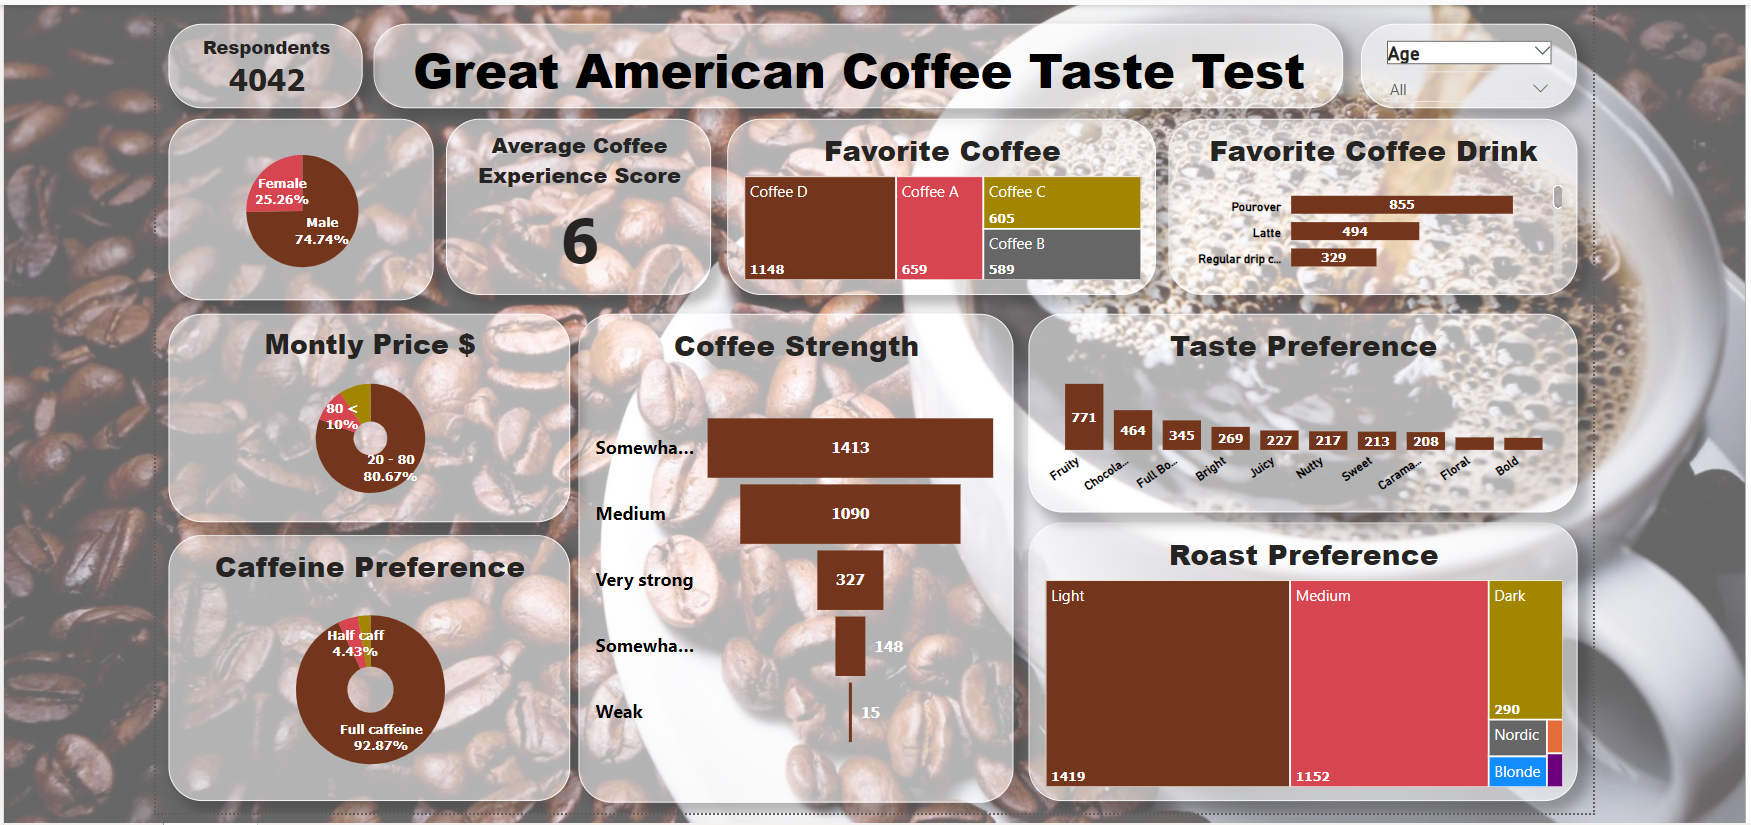

What the dashboard file says about the page in this screenshot:
{"tool":"powerbi","page":{"name":"Page 1","canvas":[1280,720],"ordinal":0},"visuals":[{"type":"textbox","title":"Great American Coffee Taste Test","box":[193.5,16.5,863.1,75.5],"z":0},{"type":"card","title":"Respondents","fields":{"Values":["CountNonNull(GACTT_RESULTS_ANONYMIZED_v2 (2).Submission ID)"]},"box":[11,16.5,172.9,75.5],"z":1},{"type":"pieChart","title":"Respondents","fields":{"Y":["CountNonNull(GACTT_RESULTS_ANONYMIZED_v2 (2).Gender (groups))"],"Category":["GACTT_RESULTS_ANONYMIZED_v2 (2).Gender (groups)"]},"box":[11,101.5,236,161.9],"z":2},{"type":"slicer","fields":{"Values":["GACTT_RESULTS_ANONYMIZED_v2.Age"]},"box":[1073.1,16.5,192.1,75.5],"z":3},{"type":"clusteredBarChart","title":"Favorite Coffee Drink","fields":{"Category":["GACTT_RESULTS_ANONYMIZED_v2.fav coffee drink"],"Y":["CountNonNull(GACTT_RESULTS_ANONYMIZED_v2.fav coffee drink)"]},"box":[901.5,101.5,363.6,156.4],"z":4},{"type":"treemap","title":"Favorite Coffee ","fields":{"Group":["GACTT_RESULTS_ANONYMIZED_v2.fav coffee"],"Values":["CountNonNull(GACTT_RESULTS_ANONYMIZED_v2.fav coffee)"]},"box":[509.1,101.5,381.5,156.4],"z":5},{"type":"card","title":"Average Coffee Experience Score","fields":{"Values":["Avg(GACTT_RESULTS_ANONYMIZED_v2.experience)"]},"box":[258,101.5,236,156.4],"z":6},{"type":"donutChart","title":"Caffeine Preference","fields":{"Y":["CountNonNull(GACTT_RESULTS_ANONYMIZED_v2.caffeine)"],"Category":["GACTT_RESULTS_ANONYMIZED_v2.caffeine"]},"box":[11.1,471.8,357.2,237],"z":7},{"type":"treemap","title":"Roast Preference","fields":{"Group":["GACTT_RESULTS_ANONYMIZED_v2.Roast level"],"Values":["CountNonNull(GACTT_RESULTS_ANONYMIZED_v2.Roast level)"]},"box":[776.7,461.1,488.5,248.4],"z":8},{"type":"funnel","title":"Coffee Strength","fields":{"Category":["GACTT_RESULTS_ANONYMIZED_v2.Strong level"],"Y":["CountNonNull(GACTT_RESULTS_ANONYMIZED_v2.Strong level)"]},"box":[376,274.4,387,435],"z":9},{"type":"columnChart","title":"Taste Preference","fields":{"Category":["GACTT_RESULTS_ANONYMIZED_v2.taste"],"Y":["CountNonNull(GACTT_RESULTS_ANONYMIZED_v2.taste)"]},"box":[776.7,274.4,488.5,177],"z":10},{"type":"donutChart","title":"Montly Price $","fields":{"Category":["GACTT_RESULTS_ANONYMIZED_v2.Montly (groups)"],"Y":["CountNonNull(GACTT_RESULTS_ANONYMIZED_v2.Montly (groups))"]},"box":[11.1,274.9,357.2,185.8],"z":11}]}

Visuals, with their boxes on the page's 1280x720 design canvas (x1, y1, x2, y2). These are canvas units, not pixel positions in the 1751x825 screenshot, which may show the page scaled, cropped or inside an application window:
"Great American Coffee Taste Test" textbox: 194, 16, 1057, 92
"Respondents" card: 11, 16, 184, 92
"Respondents" pieChart: 11, 102, 247, 263
slicer - GACTT_RESULTS_ANONYMIZED_v2.Age: 1073, 16, 1265, 92
"Favorite Coffee Drink" clusteredBarChart: 902, 102, 1265, 258
"Favorite Coffee " treemap: 509, 102, 891, 258
"Average Coffee Experience Score" card: 258, 102, 494, 258
"Caffeine Preference" donutChart: 11, 472, 368, 709
"Roast Preference" treemap: 777, 461, 1265, 710
"Coffee Strength" funnel: 376, 274, 763, 709
"Taste Preference" columnChart: 777, 274, 1265, 451
"Montly Price $" donutChart: 11, 275, 368, 461
